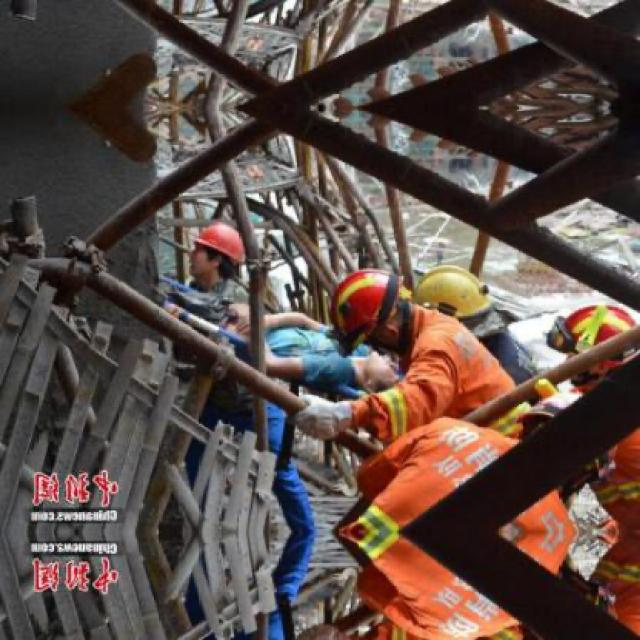helmet: (546, 299, 637, 392), (328, 267, 410, 347), (409, 259, 498, 330), (188, 219, 248, 287)
